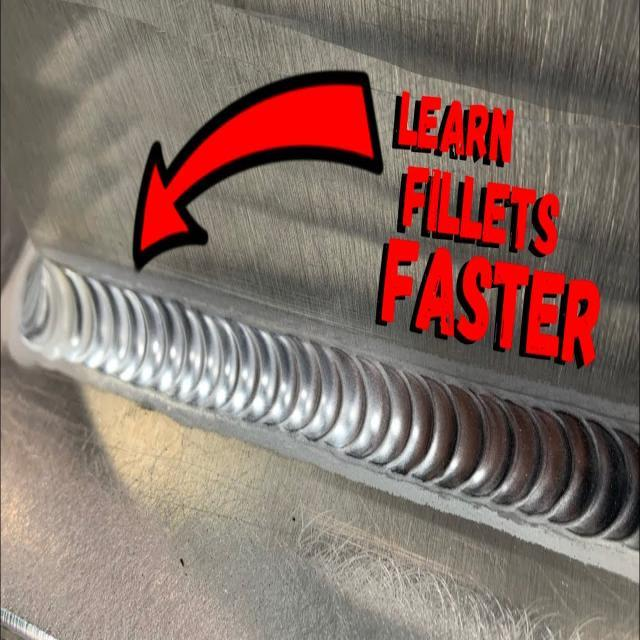Good Welding: (19, 256, 640, 548)
